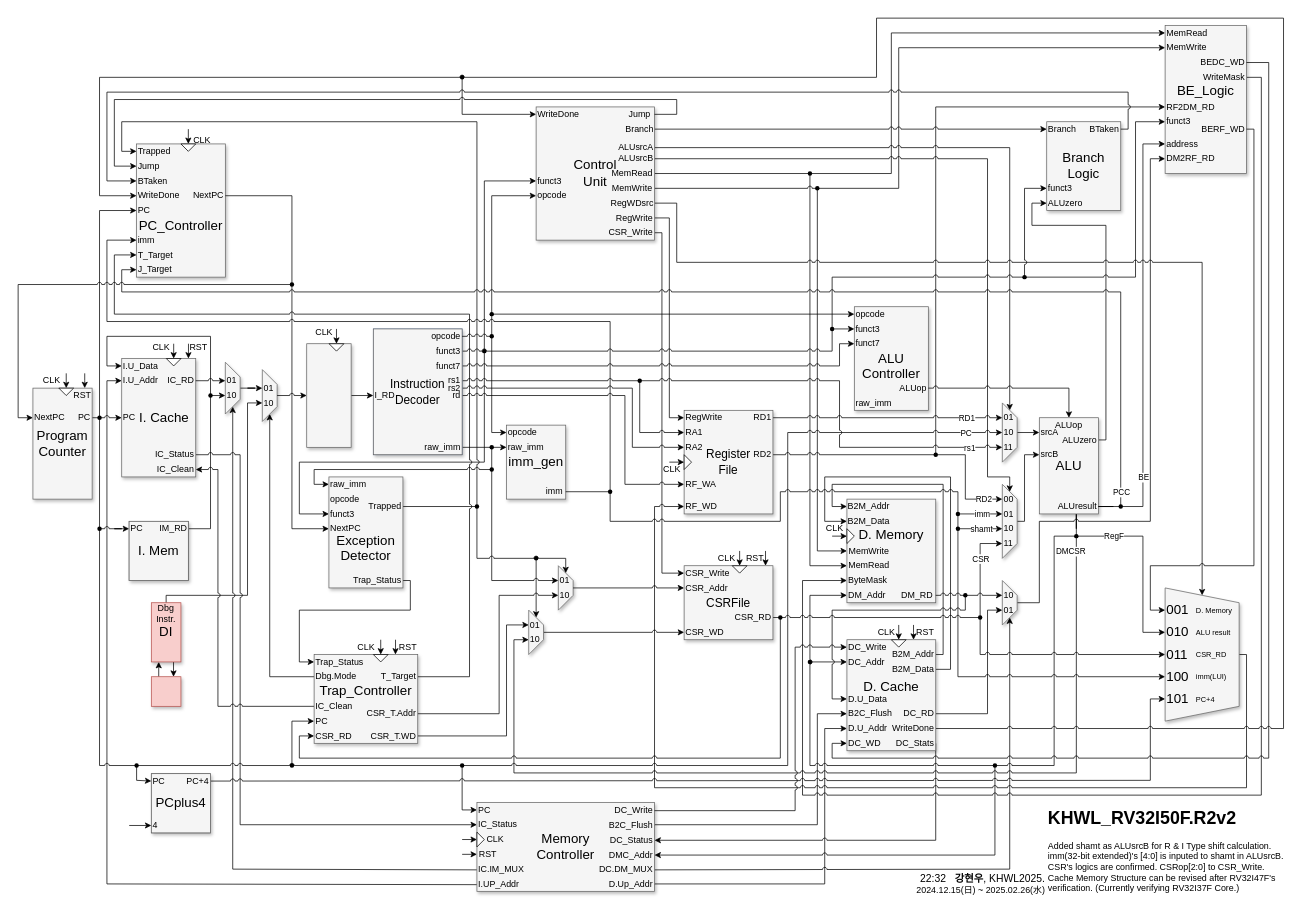
The diagram is 1304 pixels wide and 914 high, and some of its shapes have lost their labels. Each missing label, with the centre of its shape:
Dbgr: the point at 166,692
IF/ID: the point at 329,396
